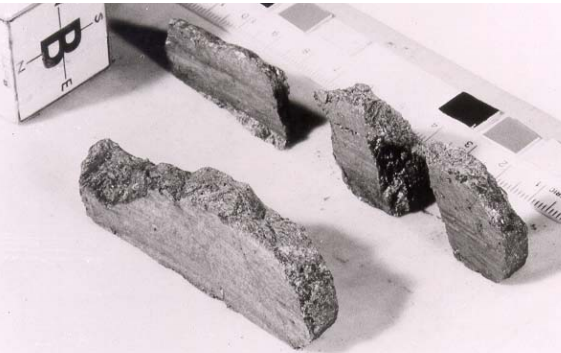Basalt: (67, 124, 340, 344), (318, 80, 534, 279), (159, 14, 315, 158)
